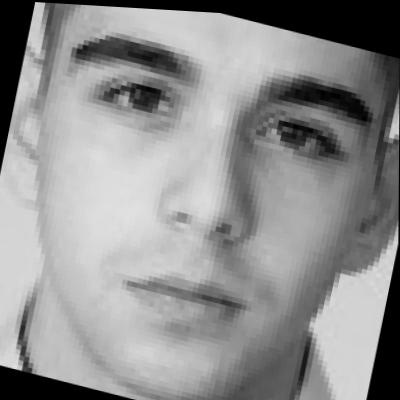netural: (0, 0, 386, 400)
